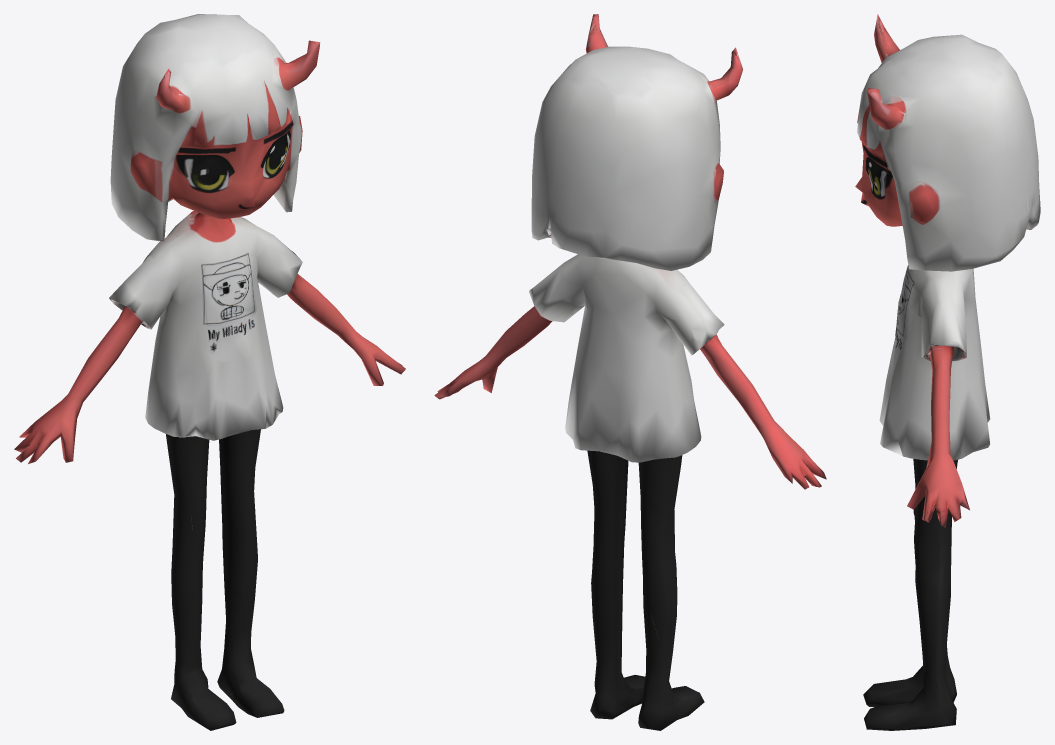
File: character.glb
The picture shows the model from 3 angles, left to right: view 1: azimuth 30°, elevation 25°; view 2: azimuth 150°, elevation 25°; view 3: azimuth 270°, elevation 25°; orthographic projection.
Size of the model in its own units: 1.15 by 1.92 by 0.4851.
1 material, 1 textured.
